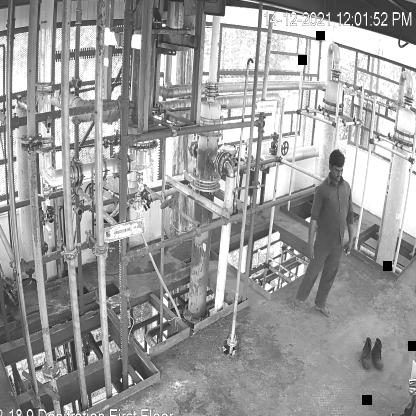no_shoes: (314, 299, 331, 318)
shoes: (370, 336, 387, 376), (358, 336, 373, 370)
